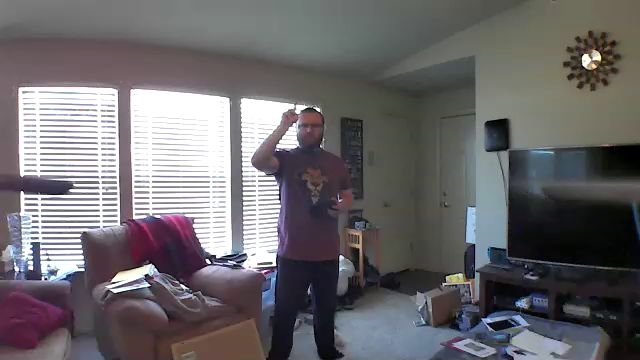up: (278, 98, 302, 127)
